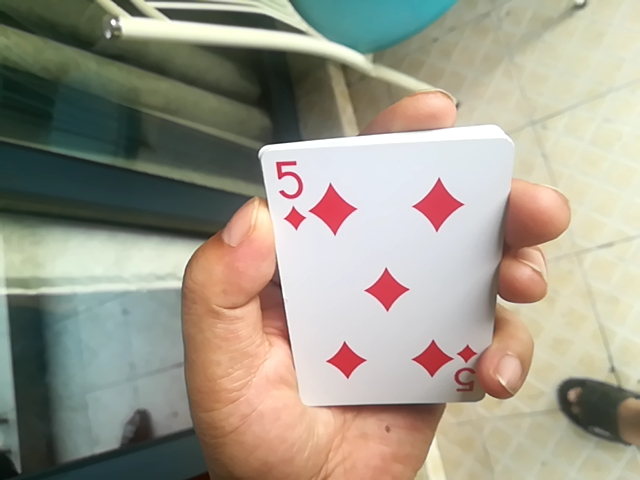fk 5: (268, 132, 510, 405)
